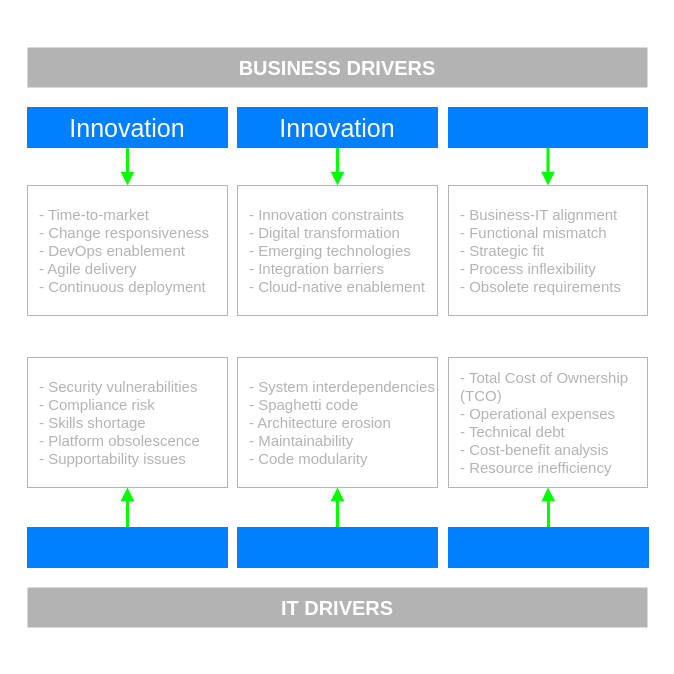
This 674x674 diagram has some shape labels left out. The box of each missing label's shape, as (x1, y1, x2, y2) in pixels:
Business Fit: (448, 106, 648, 148)
Complexity: (236, 526, 438, 568)
Cost: (448, 526, 648, 568)
Risk: (26, 526, 228, 568)
